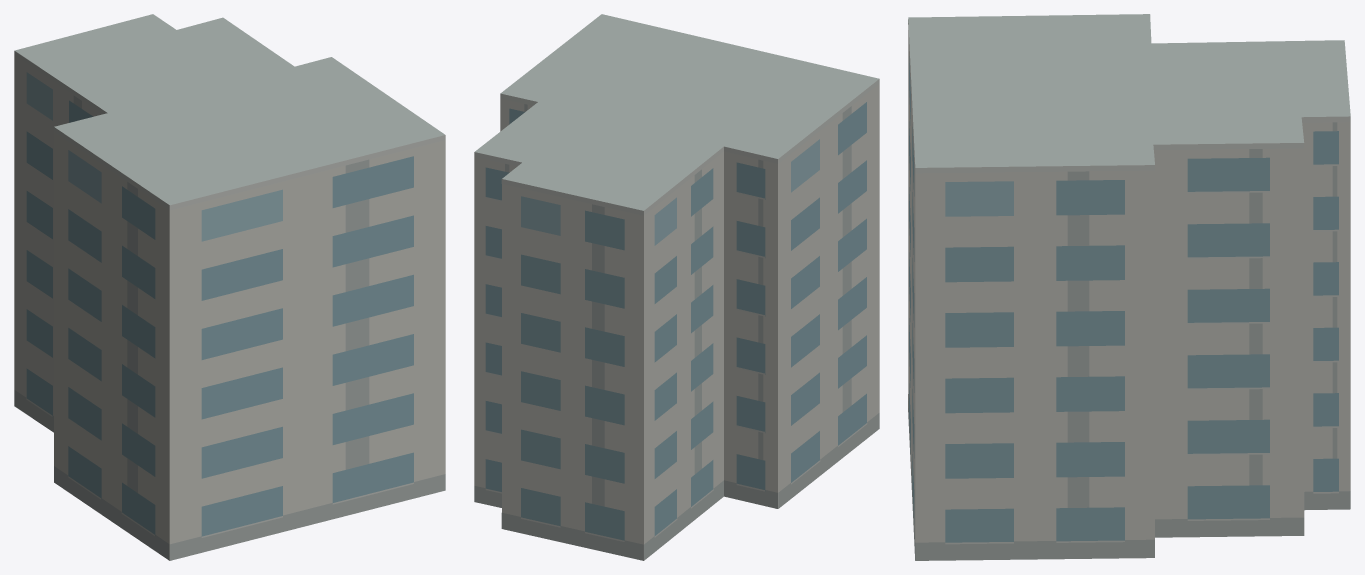
The model's file is survey-upis-32799726.glb.
3 views of the same model, side by side, from view 1: azimuth 30°, elevation 25°; view 2: azimuth 150°, elevation 25°; view 3: azimuth 270°, elevation 25° (orthographic). The views are drawn at different scales.
Visible parts, largest first — view 1: survey-upis-32799726.tmp; view 2: survey-upis-32799726.tmp; view 3: survey-upis-32799726.tmp.
Part boxes in pixels (x1,y1,x2,y2): survey-upis-32799726.tmp: (14,14,445,560); survey-upis-32799726.tmp: (474,14,879,560); survey-upis-32799726.tmp: (908,14,1350,560).
Bounding box in the file's own units: 14.29 × 17 × 17.36.
